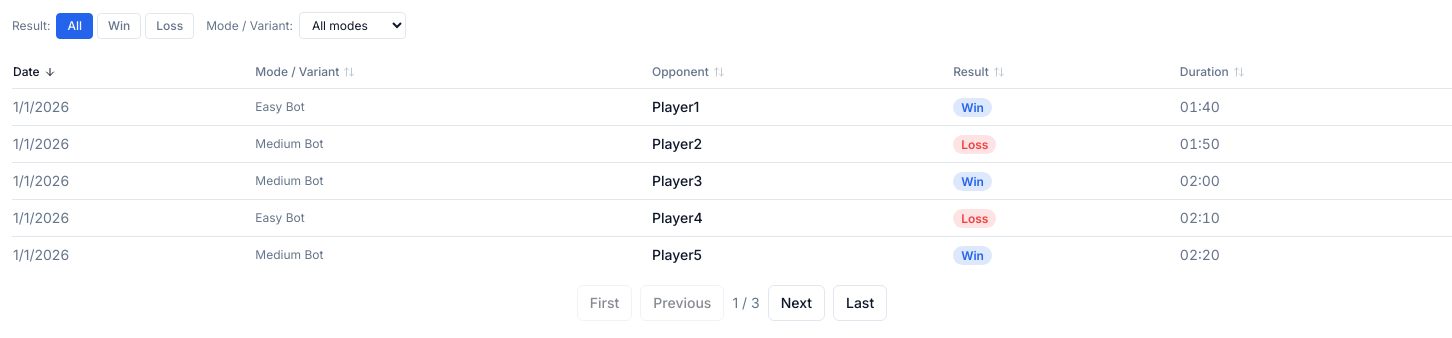
Test: MatchHistoryTable — pagination › navigates to last page
Step 1. Click the button "Last" → coordinates (860, 303), box [833,285,887,321]
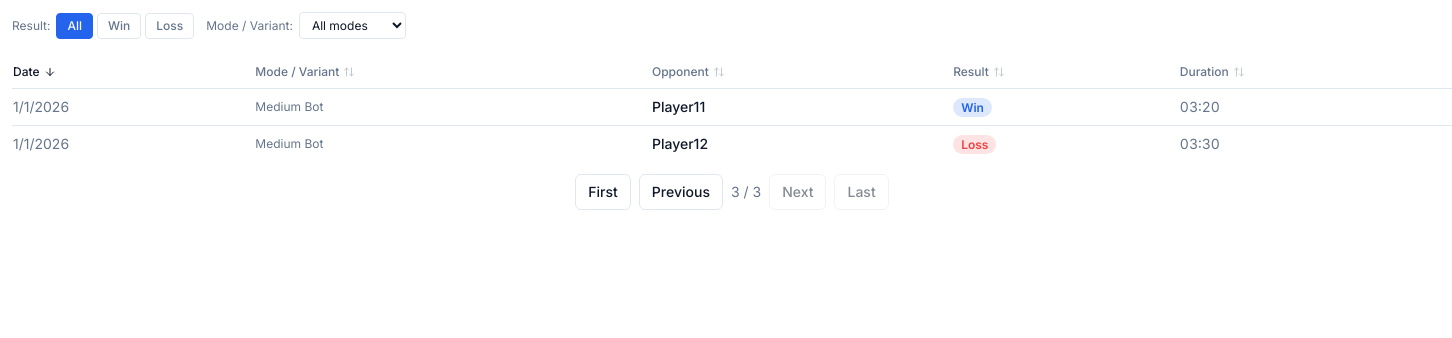
Check: the text "3 / 3" is shown, box [731,182,761,202]
